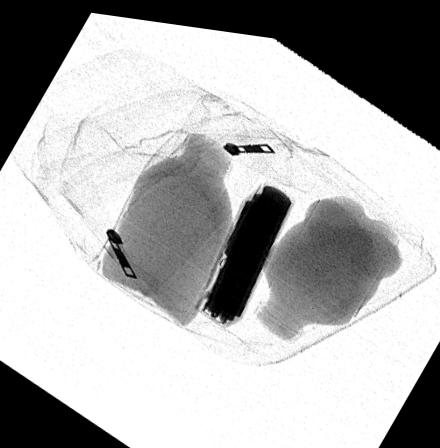Powerbank: (193, 170, 298, 322)
